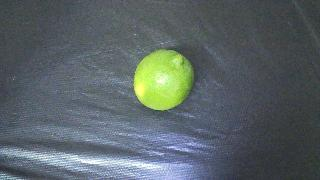LOCAL: (134, 49, 194, 110)
